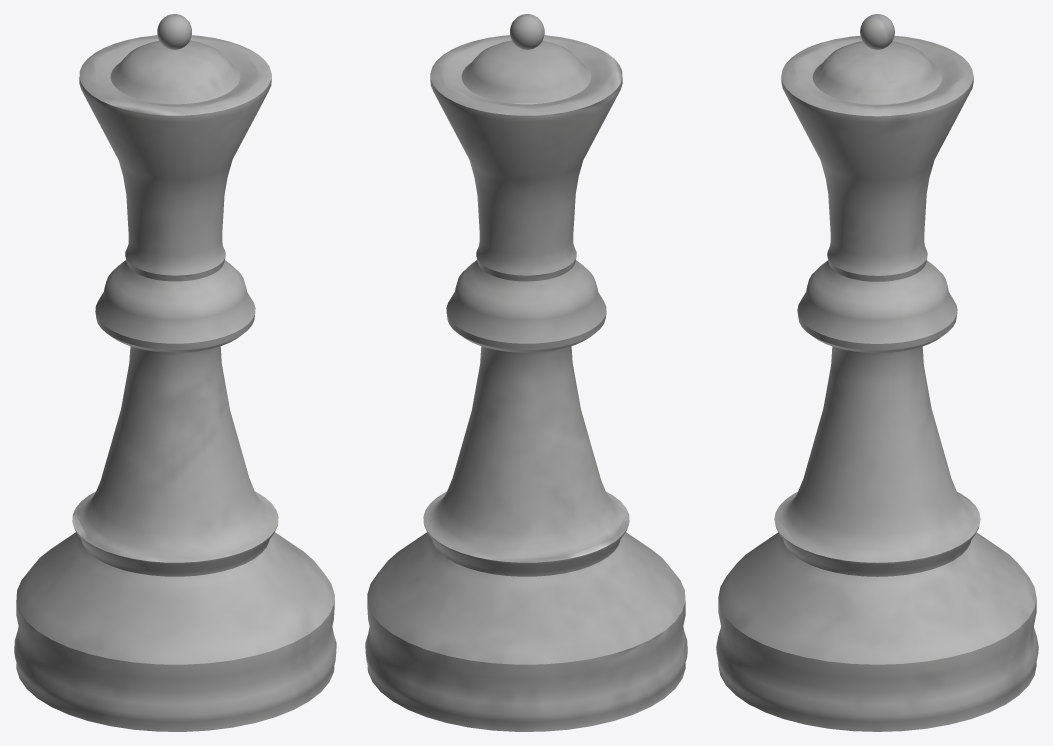
File: reina_Blanca.glb
3 views of the same model, side by side, from view 1: azimuth 30°, elevation 25°; view 2: azimuth 150°, elevation 25°; view 3: azimuth 270°, elevation 25° (orthographic).
Visible parts, largest first — view 1: defaultMaterial.001; view 2: defaultMaterial.001; view 3: defaultMaterial.001.
Part boxes in pixels (left/top/right/bottom): defaultMaterial.001: left=14, top=14, right=336, bottom=731; defaultMaterial.001: left=365, top=14, right=687, bottom=731; defaultMaterial.001: left=716, top=14, right=1038, bottom=731.
Bounding box in the file's own units: 0.8307 × 1.85 × 0.8307.
1 material, 1 textured.
